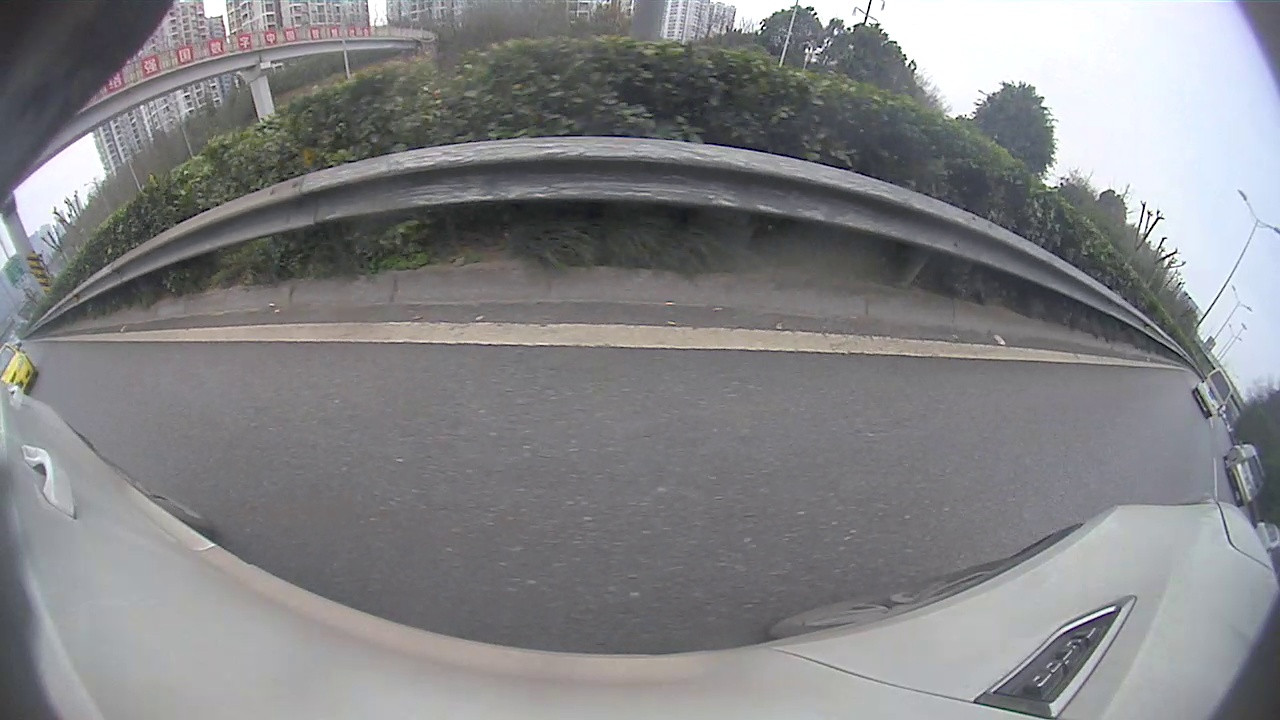car: (1225, 444, 1266, 507), (1192, 367, 1236, 419), (1, 343, 37, 392)
